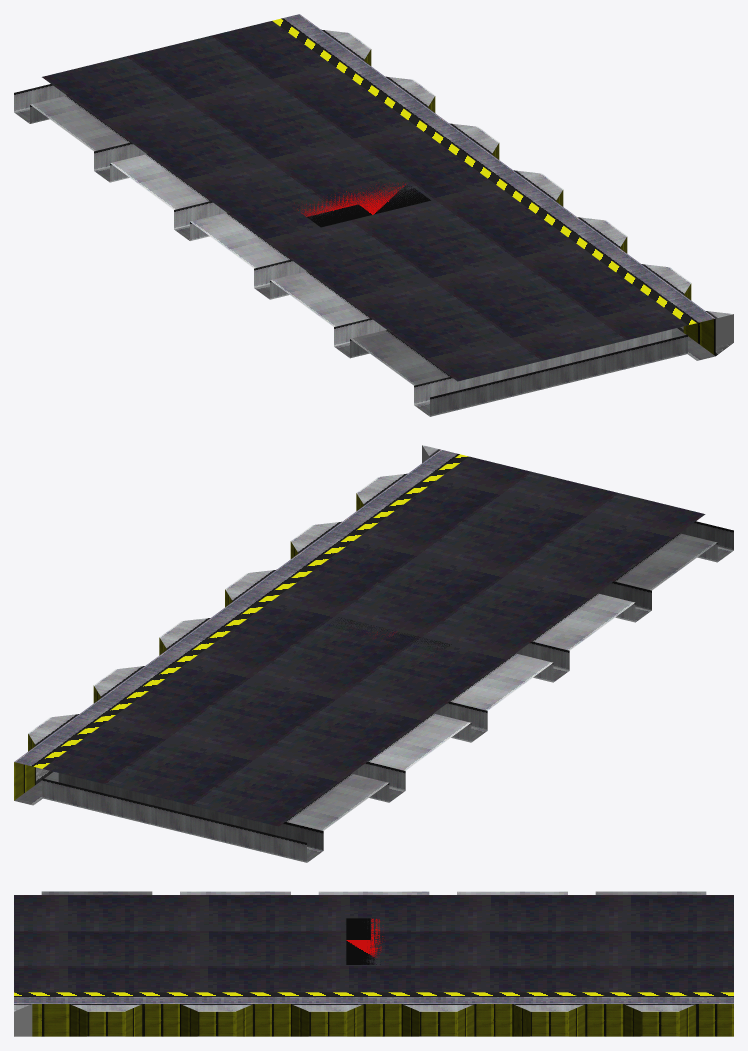
File: floor_hatch_1.glb
3 views of the same model, one above another, from view 1: azimuth 30°, elevation 25°; view 2: azimuth 150°, elevation 25°; view 3: azimuth 270°, elevation 25° (orthographic). The views are drawn at different scales.
Parts seen in each view (by area): view 1: Object; view 2: Object; view 3: Object.
Boxes of the visible parts, <box> form: Object: <box>14,14,733,416</box>; Object: <box>14,445,733,862</box>; Object: <box>14,891,733,1036</box>.
Size of the model in its own units: 4.58 by 0.5446 by 10.86.
25 materials, 25 textured.
